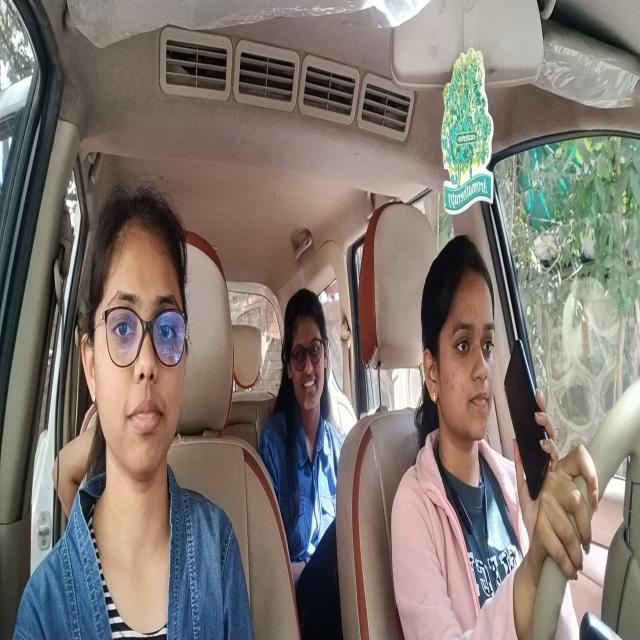mobile: (504, 338, 554, 506)
person: (77, 178, 192, 484), (420, 230, 500, 450), (279, 284, 329, 424)
